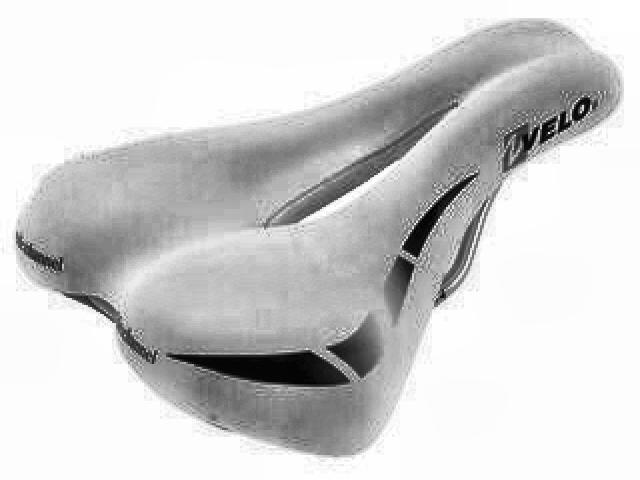saddle: (16, 24, 626, 459)
